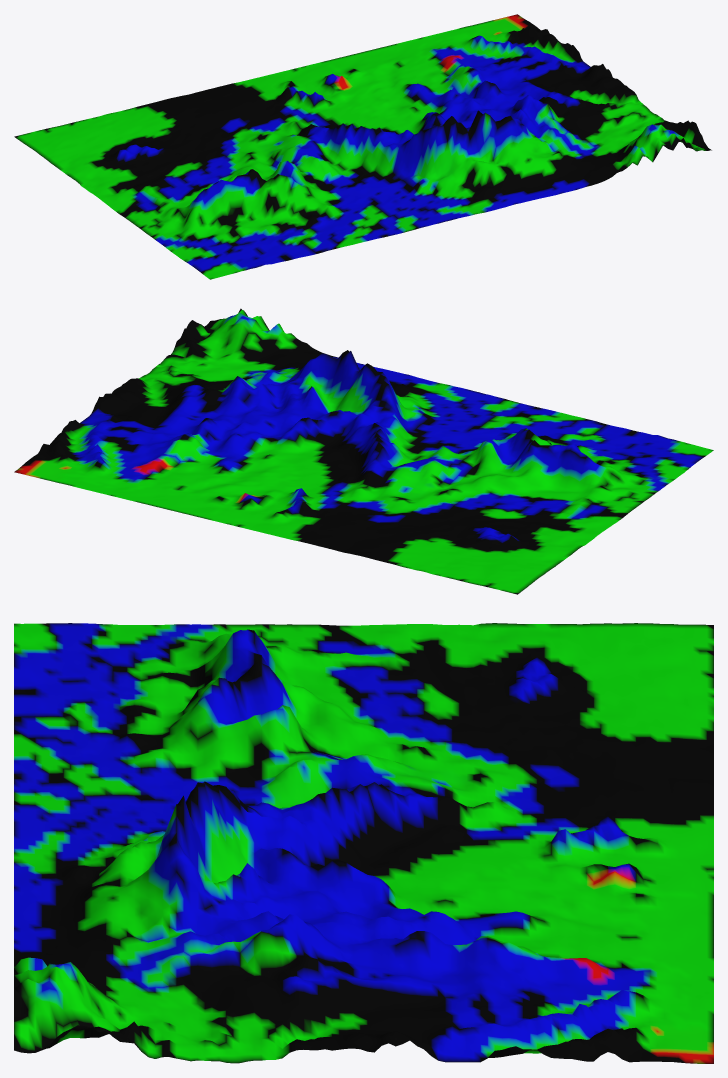
The model's file is Terrain_MainMap_Block_A_03.fbx.
The picture shows the model from 3 angles, top to bottom: view 1: azimuth 30°, elevation 25°; view 2: azimuth 150°, elevation 25°; view 3: azimuth 270°, elevation 25°; orthographic projection. The views are drawn at different scales.
Parts seen in each view (by area): view 1: Terrain_MainMap_Block_A_03; view 2: Terrain_MainMap_Block_A_03; view 3: Terrain_MainMap_Block_A_03.
Part boxes in pixels (bbox=[...]): Terrain_MainMap_Block_A_03: bbox=[14, 14, 711, 279]; Terrain_MainMap_Block_A_03: bbox=[14, 308, 713, 594]; Terrain_MainMap_Block_A_03: bbox=[14, 623, 713, 1063].
Size of the model in its own units: 40000 by 4459 by 27000.
